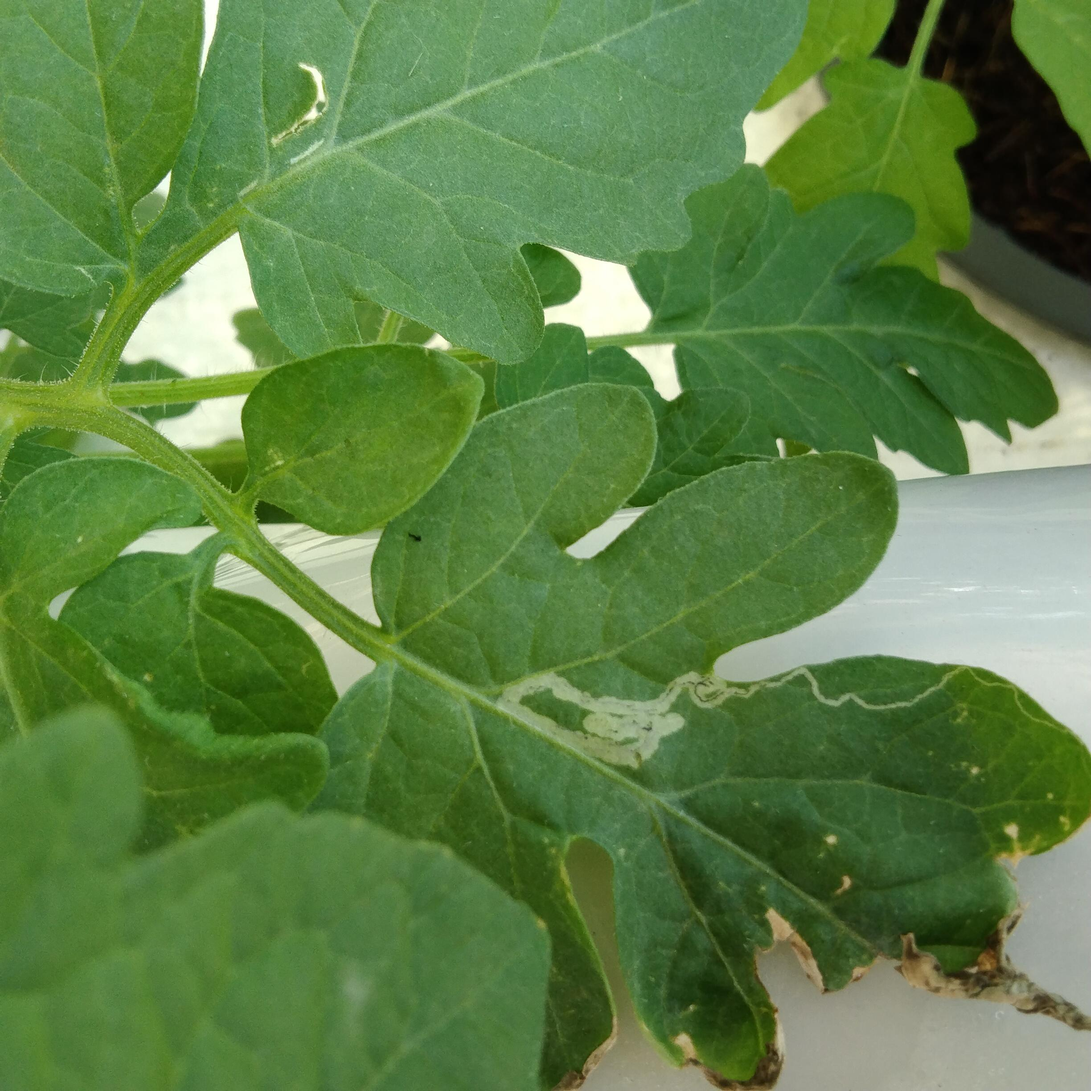Leaf_Miner: (281, 435, 463, 1091)
